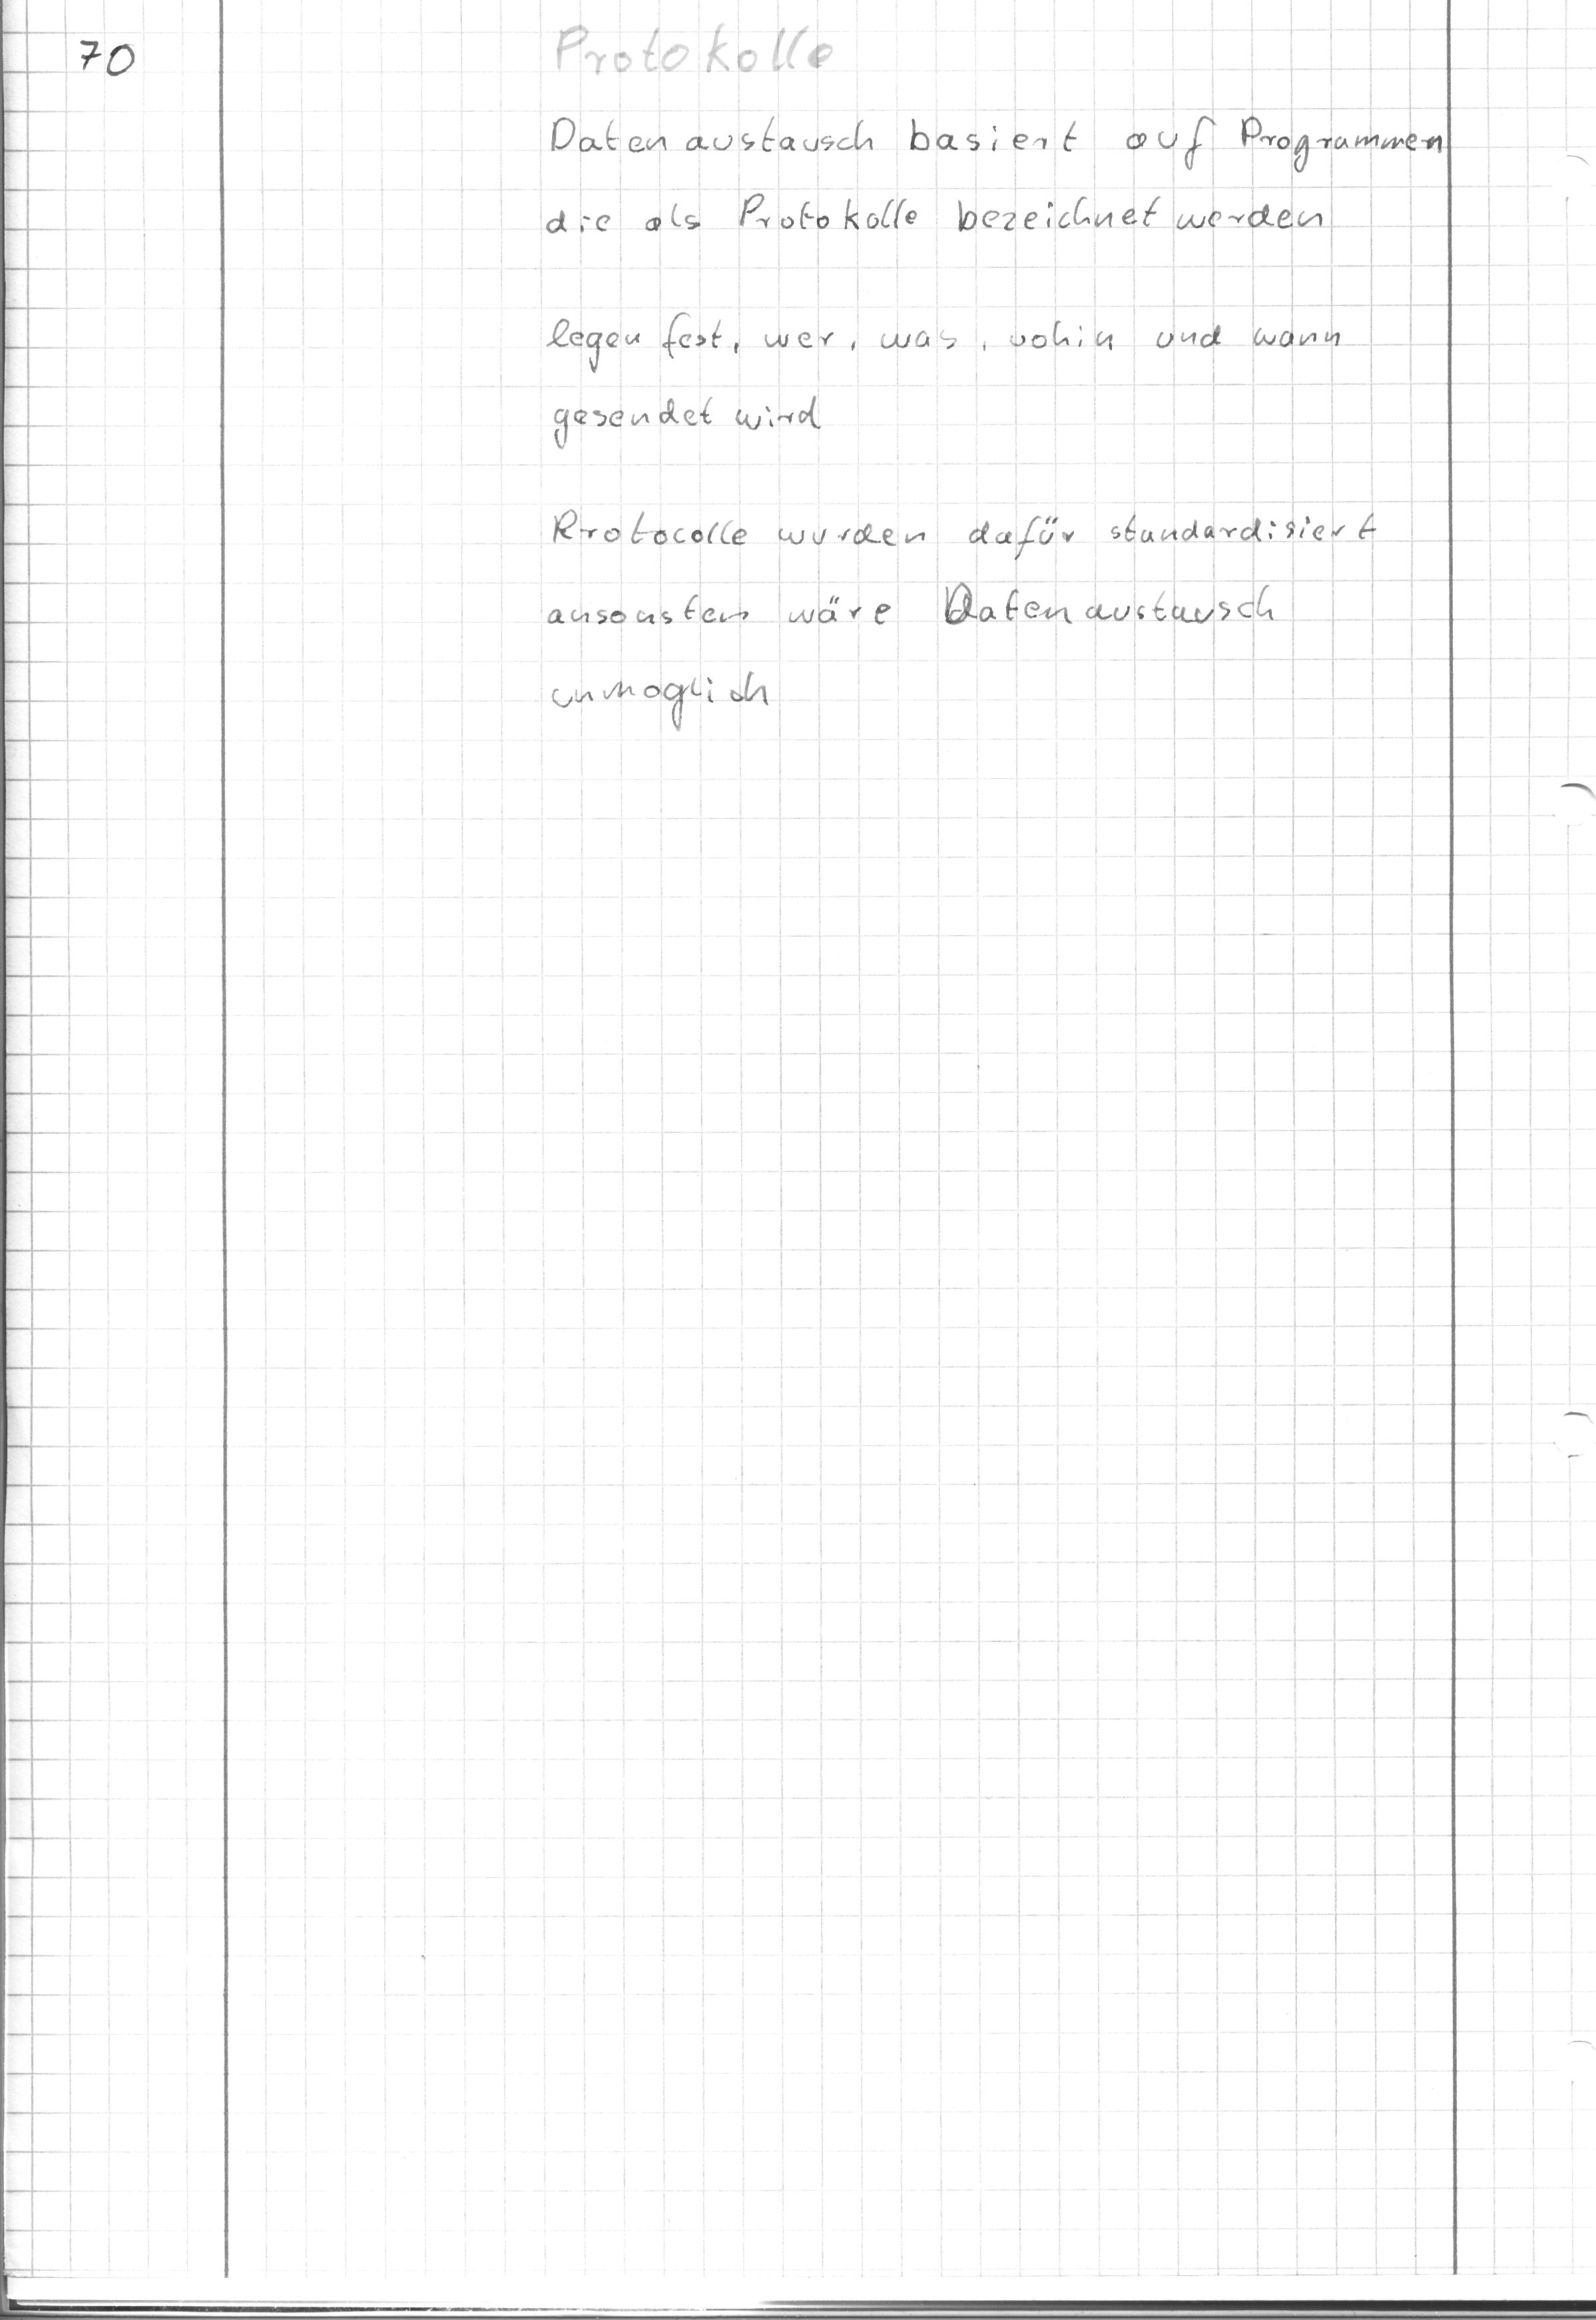word: (539, 493, 1388, 740), (530, 97, 1452, 248), (530, 296, 1350, 457)
